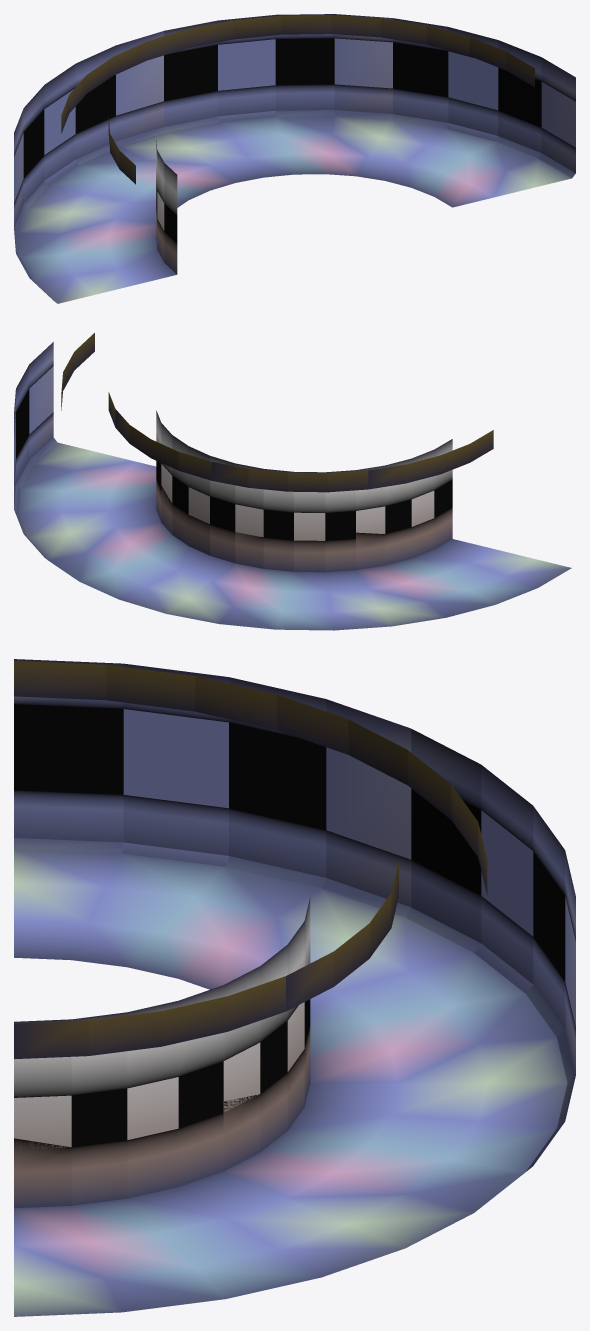
File: map.glb
3 renders of one model, top to bottom at view 1: azimuth 30°, elevation 25°; view 2: azimuth 150°, elevation 25°; view 3: azimuth 270°, elevation 25°, orthographic. The views are drawn at different scales.
Visible parts, largest first — view 1: Plane; view 2: Plane; view 3: Plane.
Boxes of the visible parts, <box> form: Plane: <box>14,14,575,303</box>; Plane: <box>14,333,571,630</box>; Plane: <box>14,659,575,1316</box>.
Bounding box in the file's own units: 17.41 × 3.79 × 8.7.
